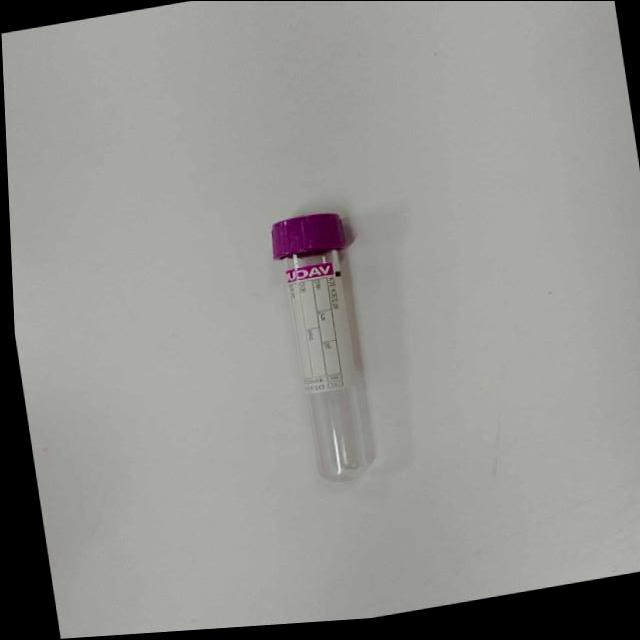General: (269, 209, 348, 260)
Pathological: (2, 2, 637, 636)
Sharps: (269, 210, 374, 481)
